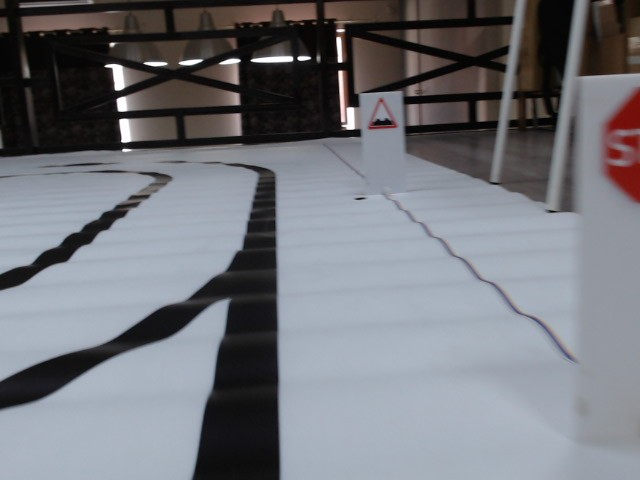Nerov: (366, 97, 398, 130)
